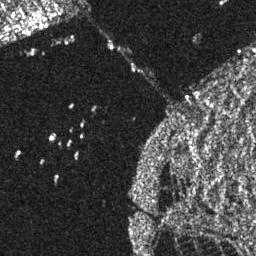ship: (48, 131, 57, 143), (14, 149, 22, 160), (53, 173, 59, 184), (68, 101, 75, 110), (79, 119, 84, 129), (66, 139, 72, 147)
